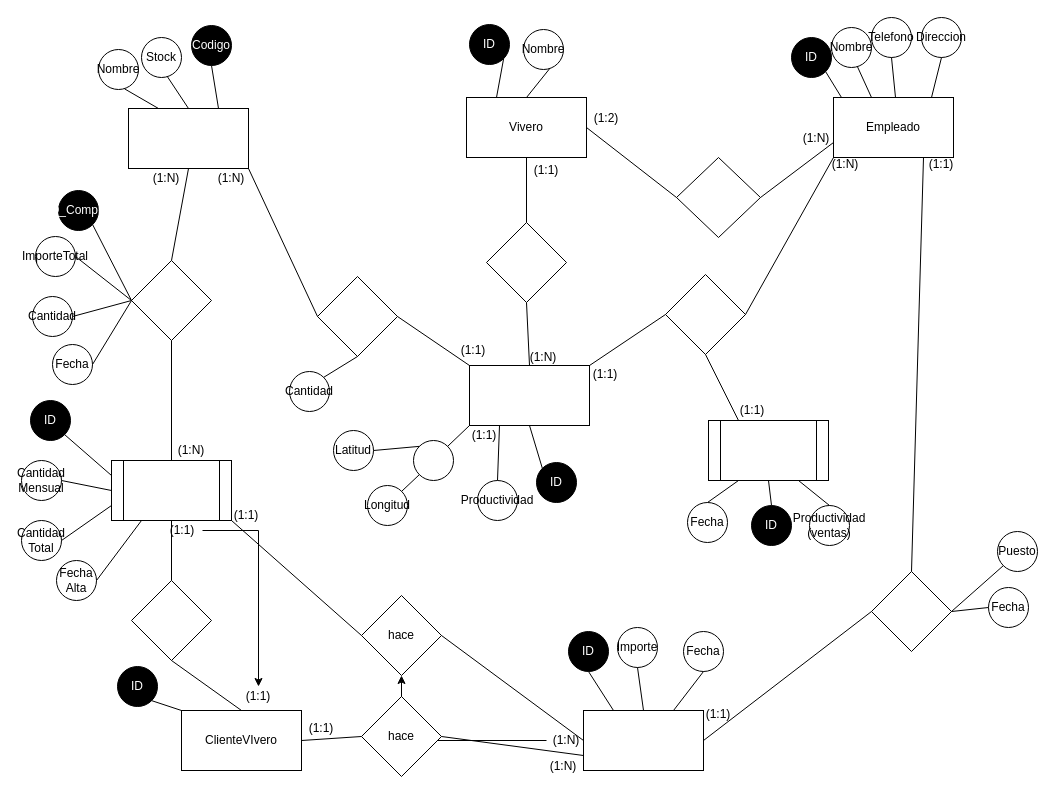
Some shapes in this 1055 by 794 pixel diagram are drawn without their labels. The box of each missing label's shape, as (x1, y1, x2, y2) in pixels:
ClientePlus: (110, 460, 232, 520)
compra: (130, 260, 212, 340)
contiene: (486, 222, 566, 302)
contrato: (676, 156, 760, 238)
controlado: (870, 570, 952, 652)
desempeña: (664, 274, 746, 354)
Geolocalización: (412, 440, 454, 480)
HistoricoDesempeño: (708, 420, 828, 480)
Pedido: (582, 710, 704, 770)
pertenece: (130, 580, 212, 660)
Producto: (128, 108, 248, 168)
tiene: (316, 276, 398, 356)
Zona: (468, 364, 590, 426)
